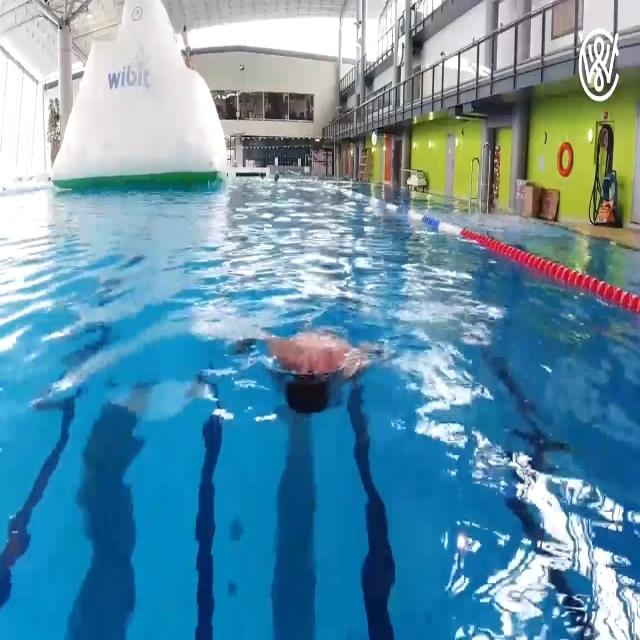Swimming: (260, 332, 370, 415)
